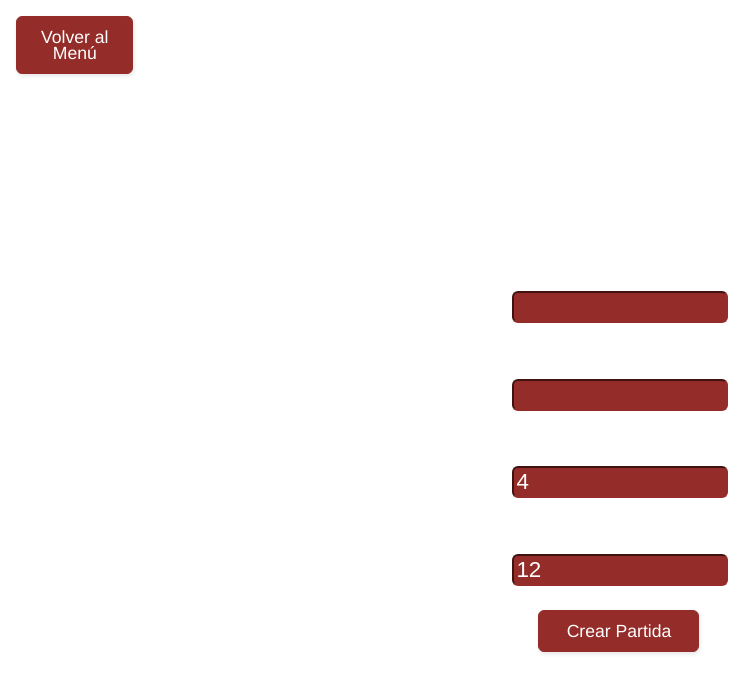
it: GameCreationForm › should display required error when value is invalid
Click the button "Crear Partida" at (619, 630), box [538,610,699,652]
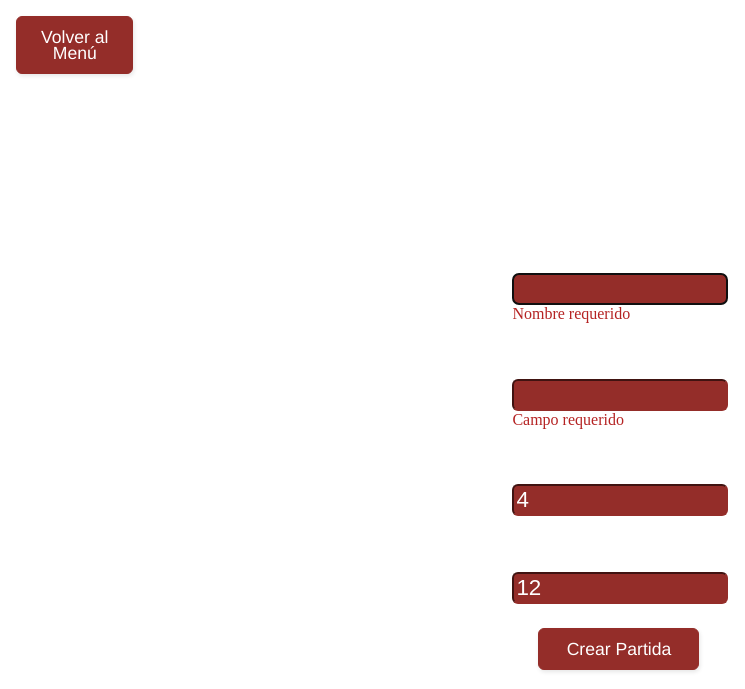
Now the text "Nombre requerido" is shown, box [512,305,630,322]
Now the text "Campo requerido" is shown, box [512,411,624,428]
